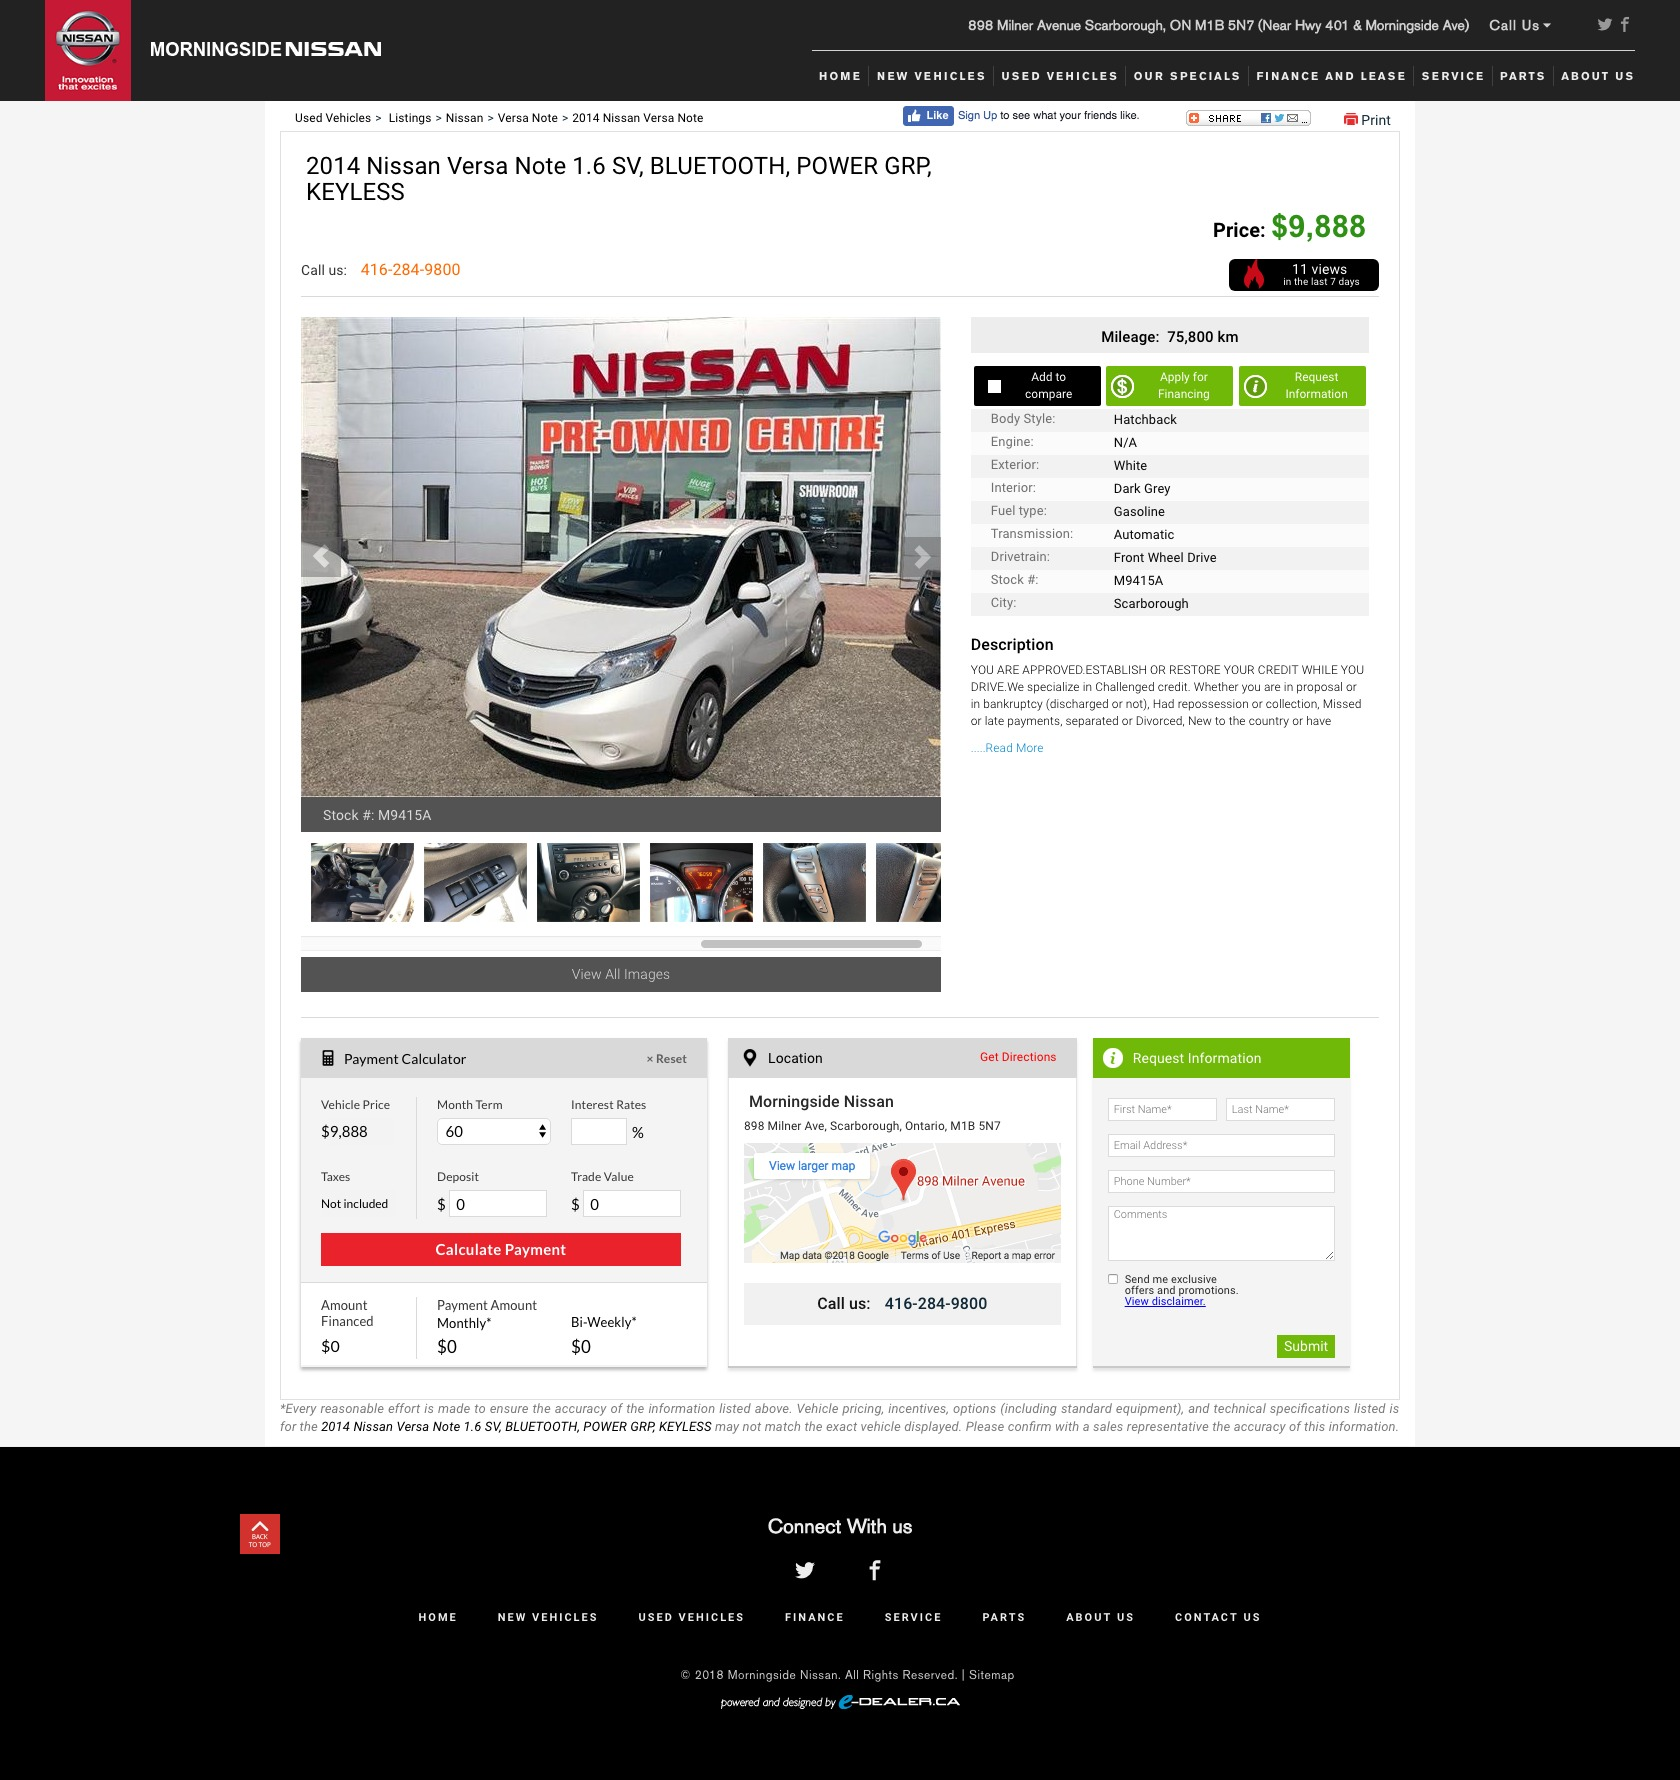car: (898, 535, 943, 586)
